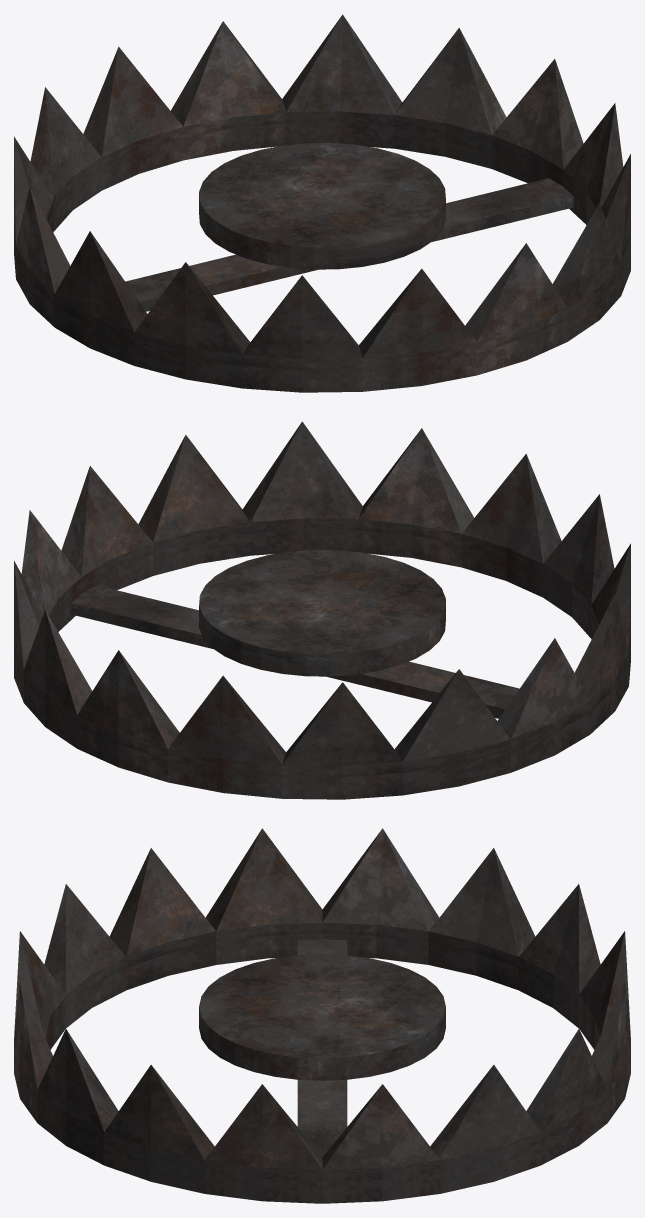
The model's file is beartrap_m1.fbx.
3 renders of one model, top to bottom at view 1: azimuth 30°, elevation 25°; view 2: azimuth 150°, elevation 25°; view 3: azimuth 270°, elevation 25°, orthographic.
Parts seen in each view (by area): view 1: TeethRight, TeethLeft, Frame, Plate; view 2: TeethLeft, TeethRight, Frame, Plate; view 3: TeethLeft, TeethRight, Frame, Plate.
Part boxes in pixels (x1,y1,x2,y2): TeethRight: (14, 14, 583, 304); TeethLeft: (54, 103, 630, 370); Frame: (14, 122, 630, 392); Plate: (199, 143, 445, 269); TeethLeft: (61, 421, 630, 711); TeethRight: (14, 510, 590, 777); Frame: (14, 529, 630, 799); Plate: (199, 550, 445, 676); TeethLeft: (14, 828, 322, 1181); TeethRight: (322, 828, 630, 1181); Frame: (14, 933, 630, 1203); Plate: (199, 954, 445, 1080).
Size of the model in its own units: 1 by 1 by 0.21.
